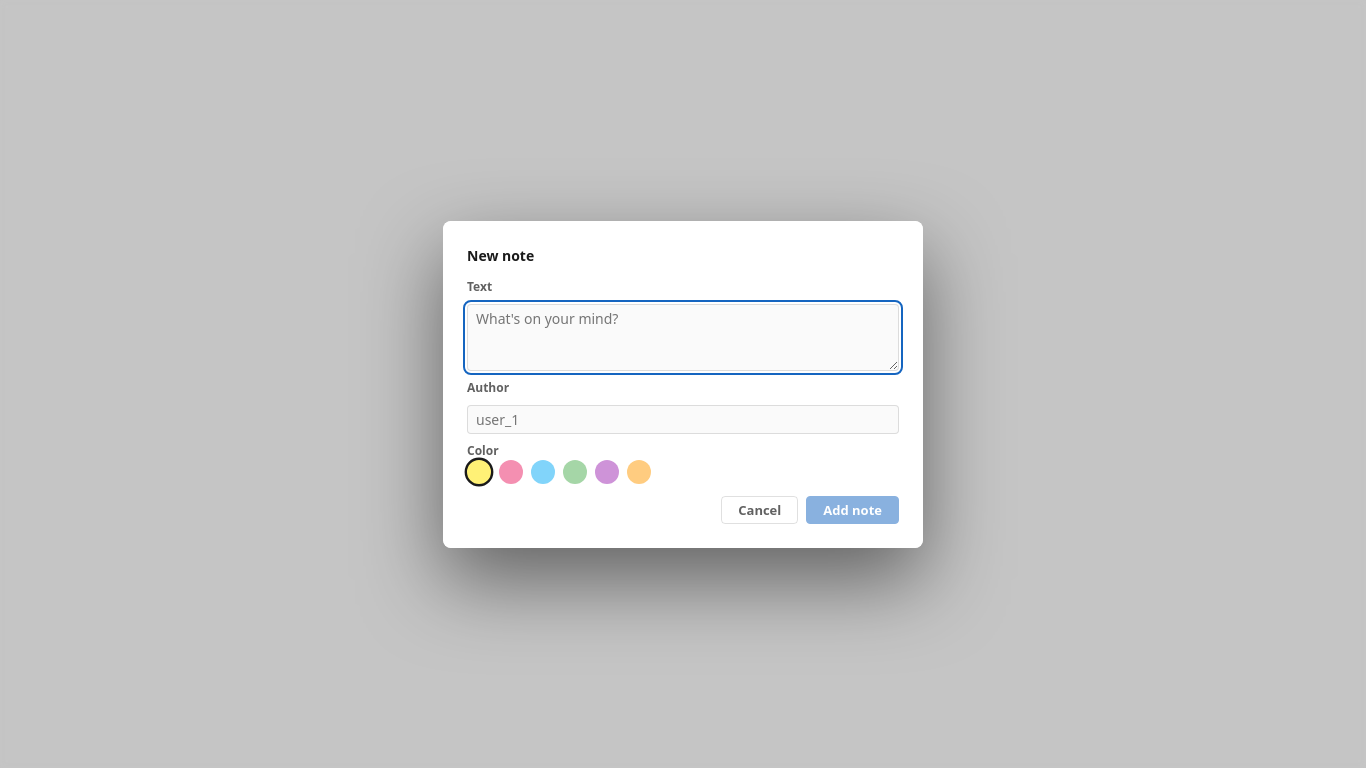
Test: CreateNoteForm — Validation › Submit button is enabled when both fields have non-empty content
Type "Some text" into the text box labelled "Text" at (683, 337), box [467,304,899,370]
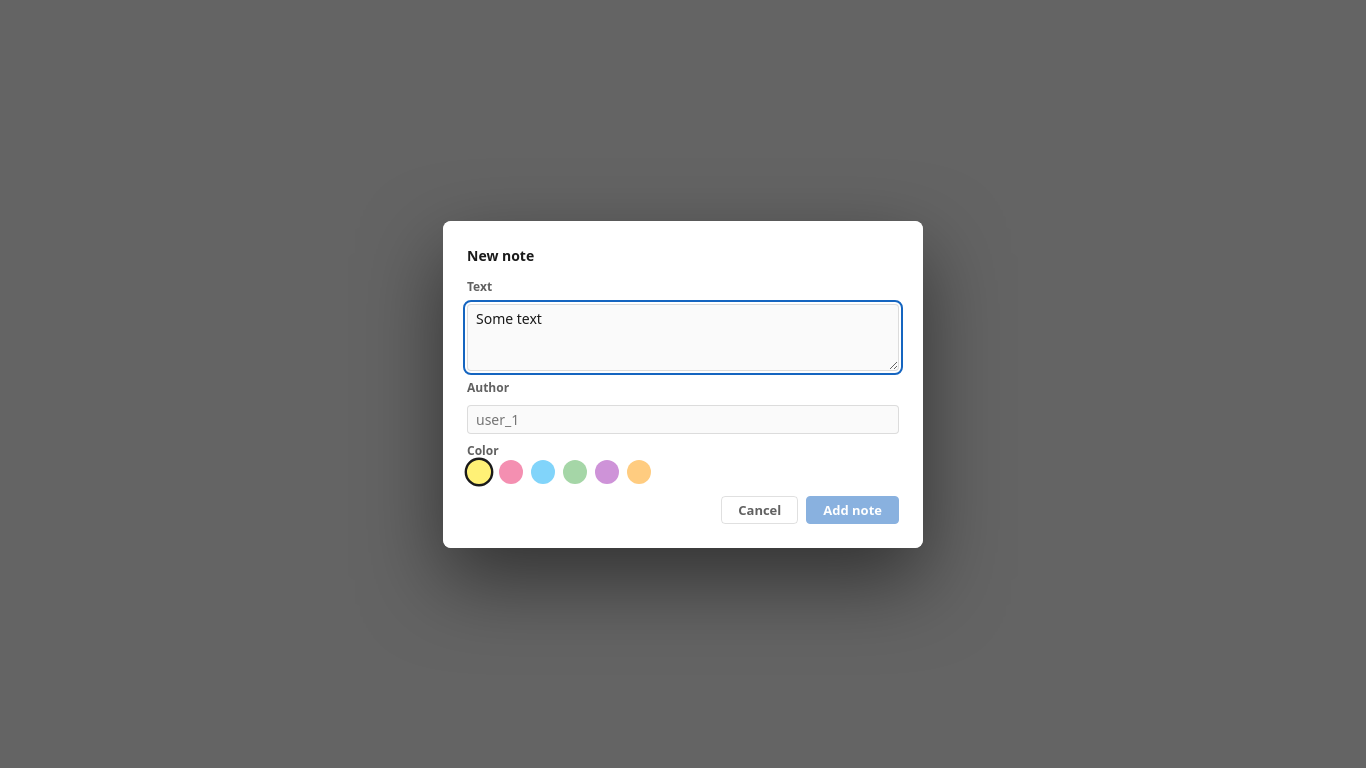
Type "user_5" into the field labelled "Author" at (683, 419), box [467,404,899,434]
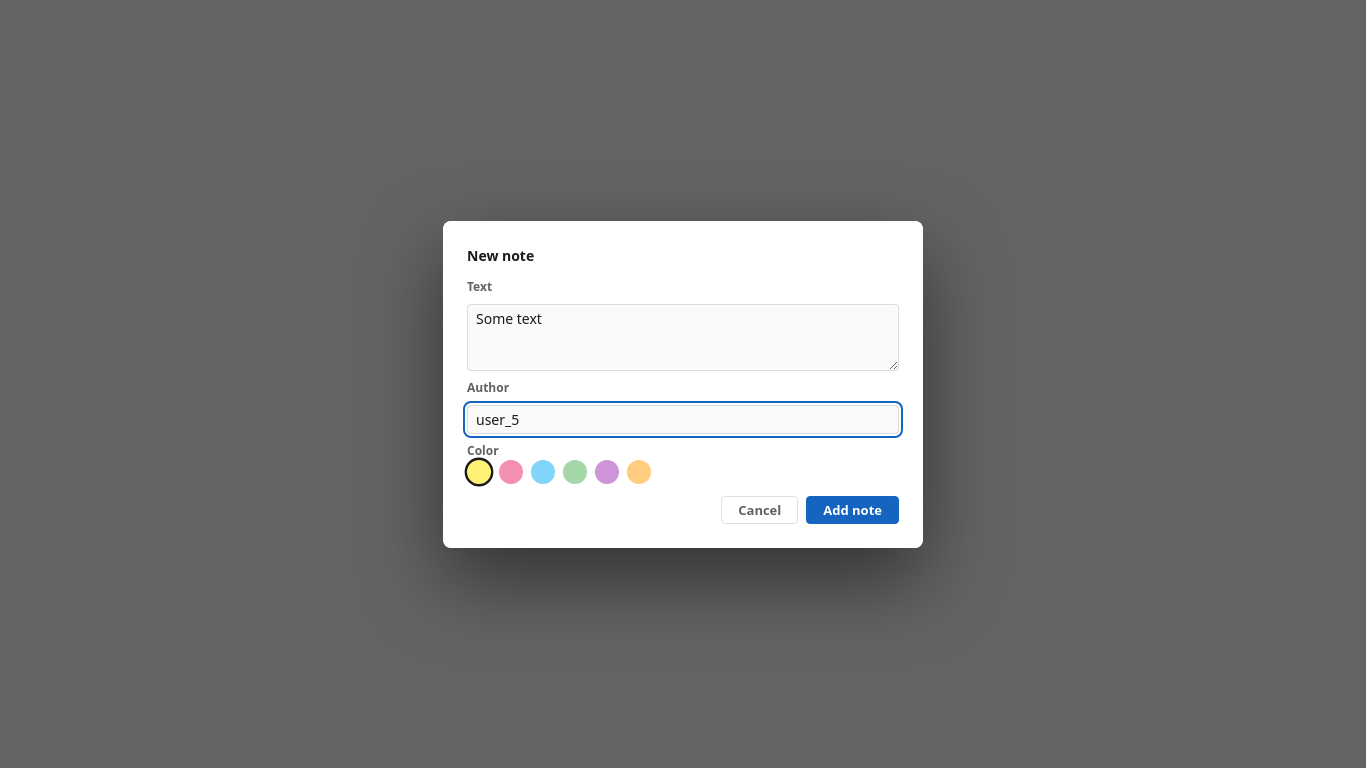
Now the button "Add note" is enabled, box [806,496,899,524]
